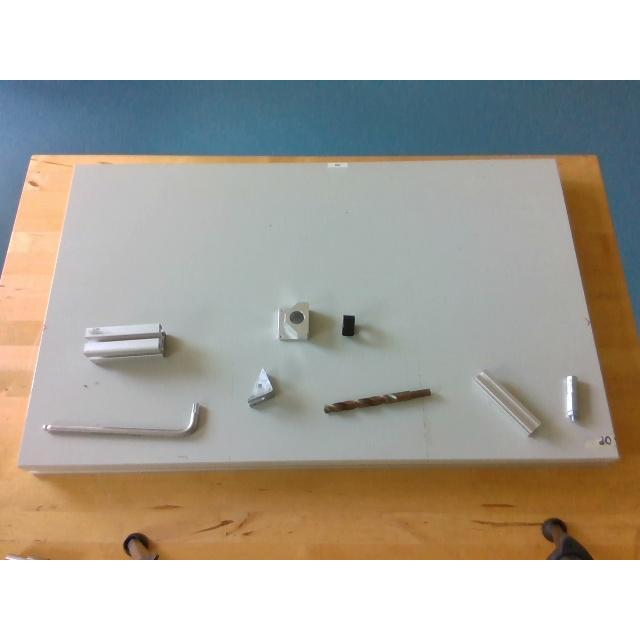AllenKey: (41, 402, 201, 440)
Drill: (322, 388, 430, 412)
F20_20_G: (472, 370, 540, 434)
M20: (341, 313, 355, 337)
S40_40_G: (84, 324, 164, 361)
